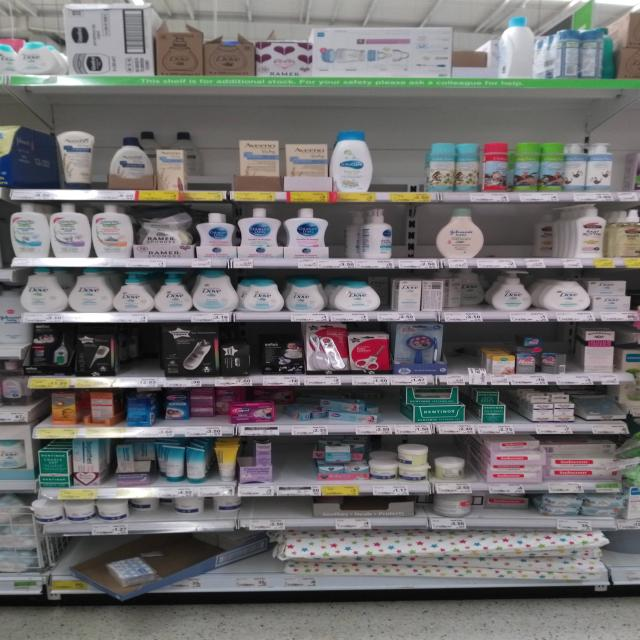void: (490, 203, 564, 258), (377, 124, 423, 195), (190, 130, 238, 195), (51, 538, 105, 590), (252, 494, 302, 519)
